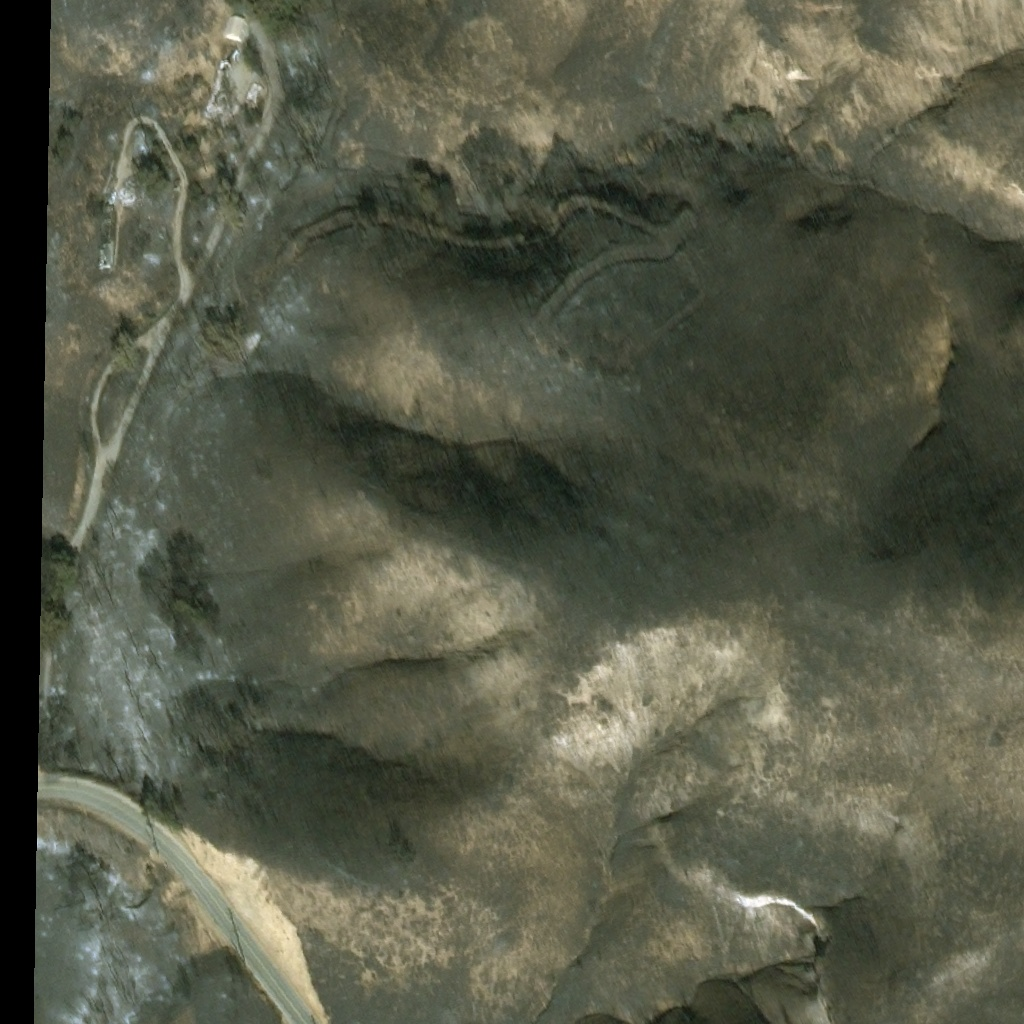0 no-damage: (223, 11, 248, 38)
3 destroyed: (98, 202, 114, 269), (200, 89, 231, 118), (118, 171, 141, 197), (241, 75, 263, 101), (210, 53, 229, 83), (234, 78, 248, 94), (222, 40, 235, 56)
